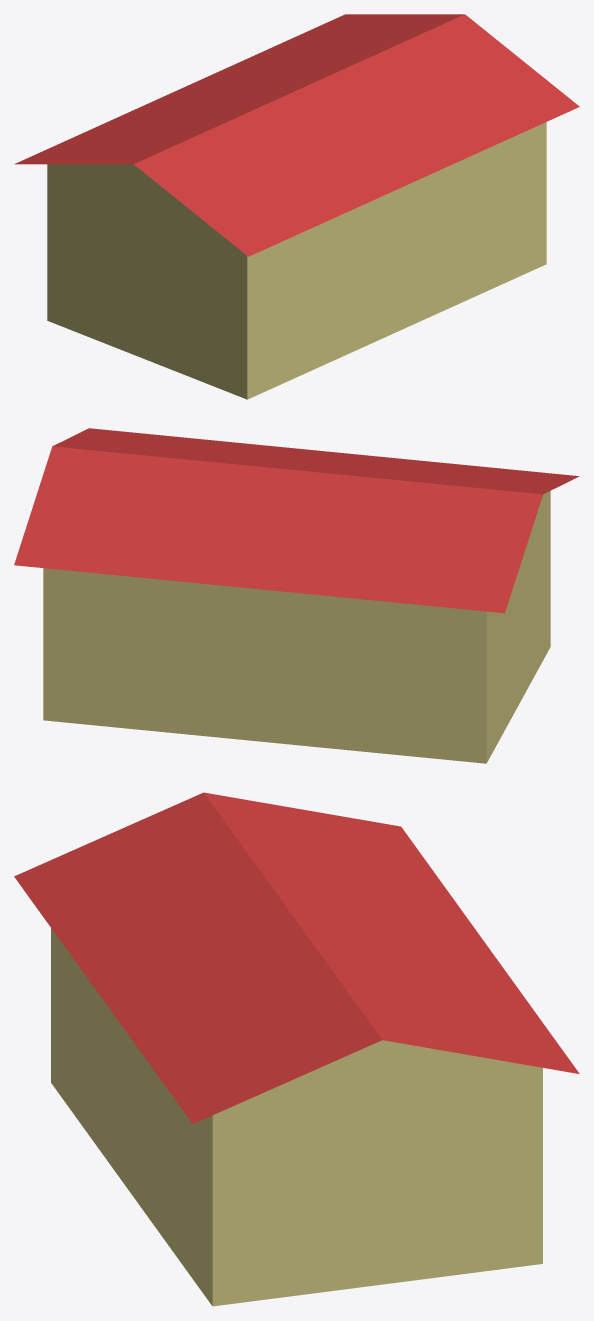
The picture shows the model from 3 angles, top to bottom: view 1: azimuth 30°, elevation 25°; view 2: azimuth 150°, elevation 25°; view 3: azimuth 270°, elevation 25°; orthographic projection. The views are drawn at different scales.
Bounding box in the file's own units: 23.7 × 19.05 × 9.57.
